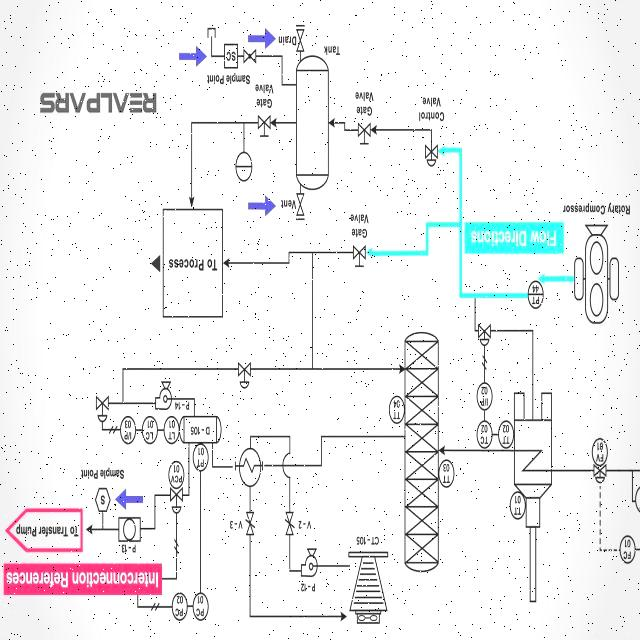Butterfly Valve: (244, 506, 260, 552), (282, 503, 296, 542)
Centrifugal Pump: (296, 550, 324, 588), (154, 378, 173, 413)
Gate Valve: (294, 190, 308, 218), (296, 28, 304, 56)
Gear Pump: (572, 222, 628, 338)
Globe Valve: (243, 48, 259, 68)
Hand Operated Gate Valve: (348, 240, 368, 272), (256, 112, 271, 144), (356, 122, 374, 148)
Pneumatic-Diaphragm Gate Valve: (164, 488, 192, 518), (231, 358, 254, 392), (93, 392, 112, 426), (476, 320, 496, 352), (588, 463, 612, 486), (424, 141, 439, 169)
